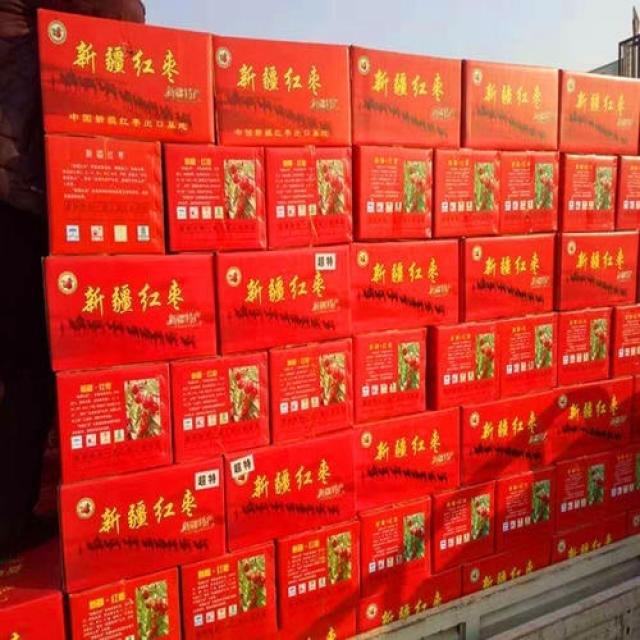box: (37, 8, 215, 143), (60, 457, 227, 593), (44, 252, 219, 374), (224, 429, 356, 553), (214, 243, 353, 355), (215, 35, 353, 145), (44, 133, 166, 253), (55, 362, 175, 483), (161, 142, 268, 252), (168, 349, 271, 463), (352, 407, 462, 513), (352, 46, 463, 147), (351, 239, 460, 334), (461, 387, 561, 484), (274, 518, 360, 630), (180, 543, 279, 639), (264, 145, 353, 250), (462, 59, 558, 151), (270, 338, 353, 444), (0, 507, 65, 640), (460, 234, 553, 323), (353, 143, 435, 241), (68, 570, 182, 640), (357, 497, 433, 599), (352, 329, 429, 422), (558, 69, 640, 155), (356, 566, 462, 632), (554, 230, 639, 312), (426, 320, 500, 411), (556, 376, 631, 458), (434, 147, 499, 238), (431, 481, 495, 572), (463, 534, 552, 598), (499, 151, 558, 237), (499, 311, 557, 398), (497, 467, 554, 553), (554, 452, 613, 531), (558, 154, 617, 232), (558, 306, 611, 389), (552, 512, 627, 564), (257, 604, 357, 640), (611, 305, 640, 379), (612, 447, 640, 516), (614, 155, 640, 228), (631, 372, 640, 443), (627, 508, 640, 538)
